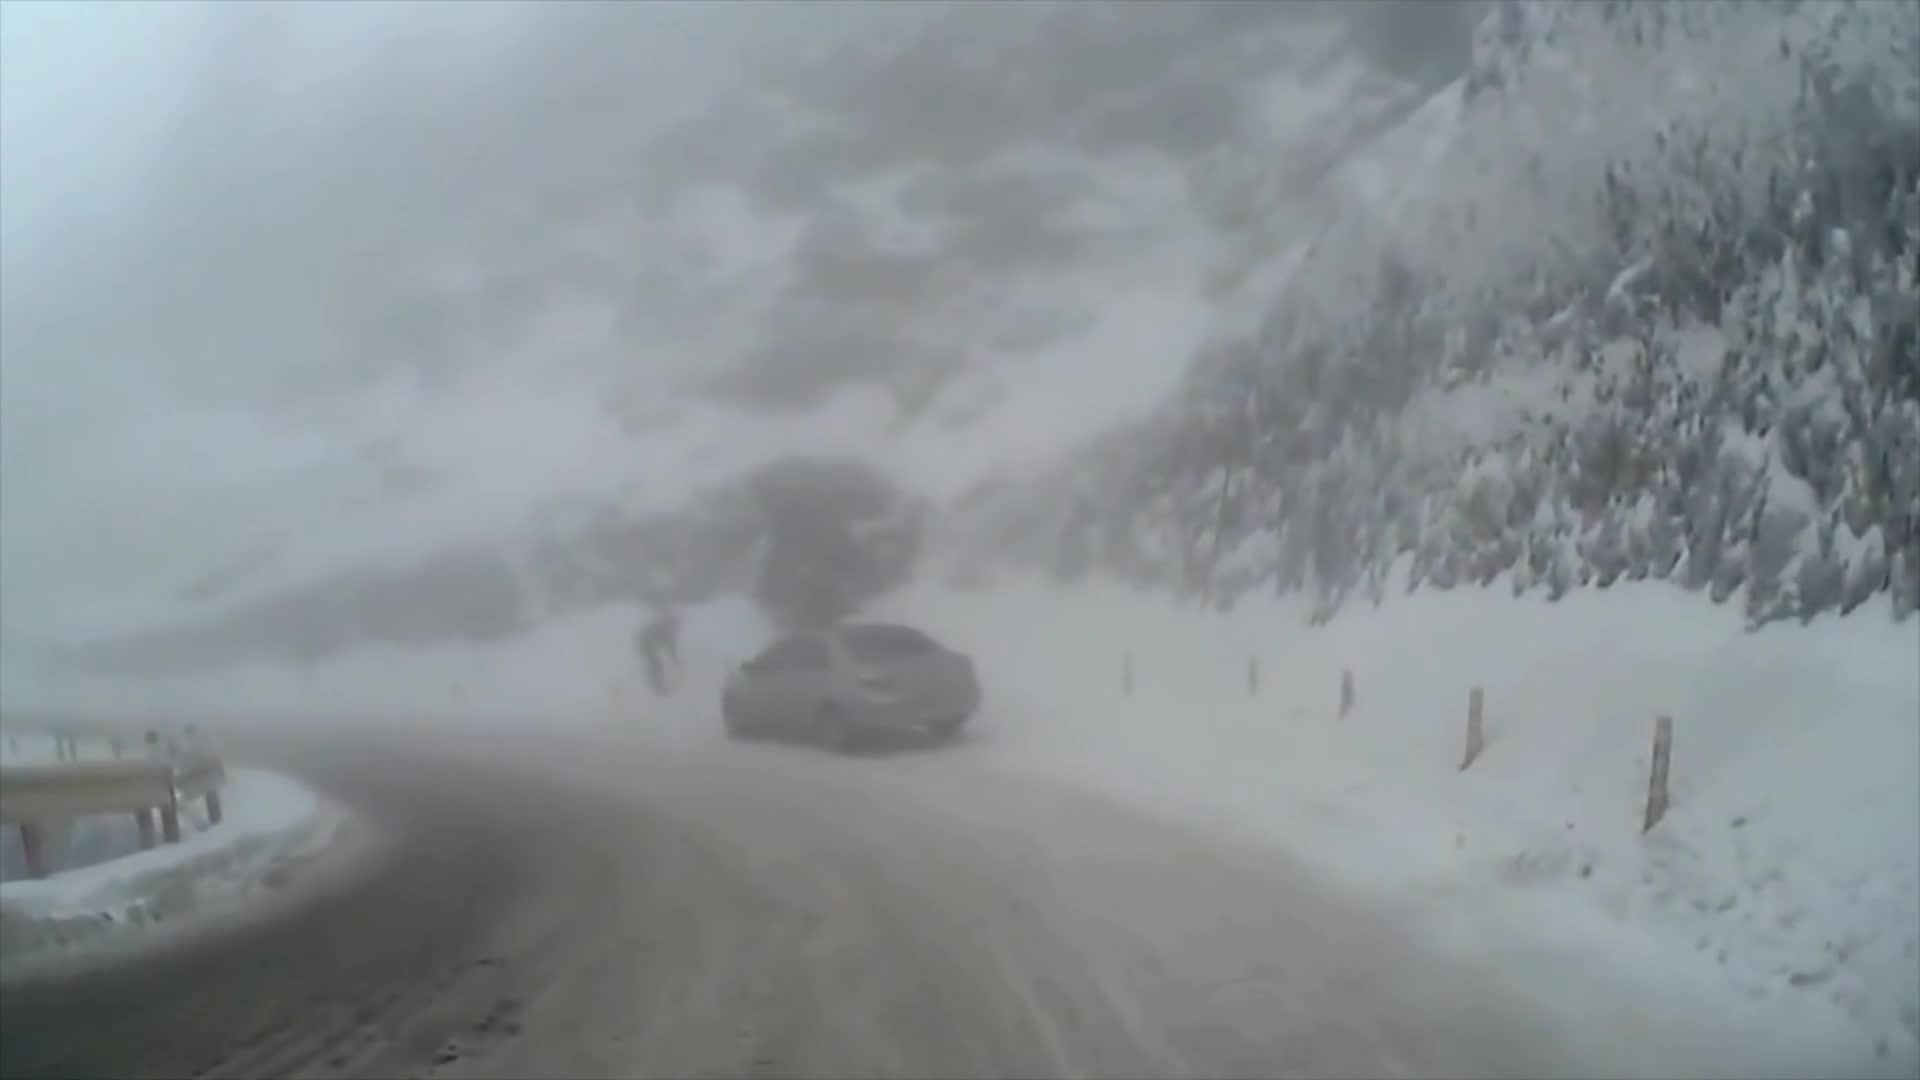pedestrian: (634, 612, 686, 694)
vehicle: (723, 619, 981, 748)
